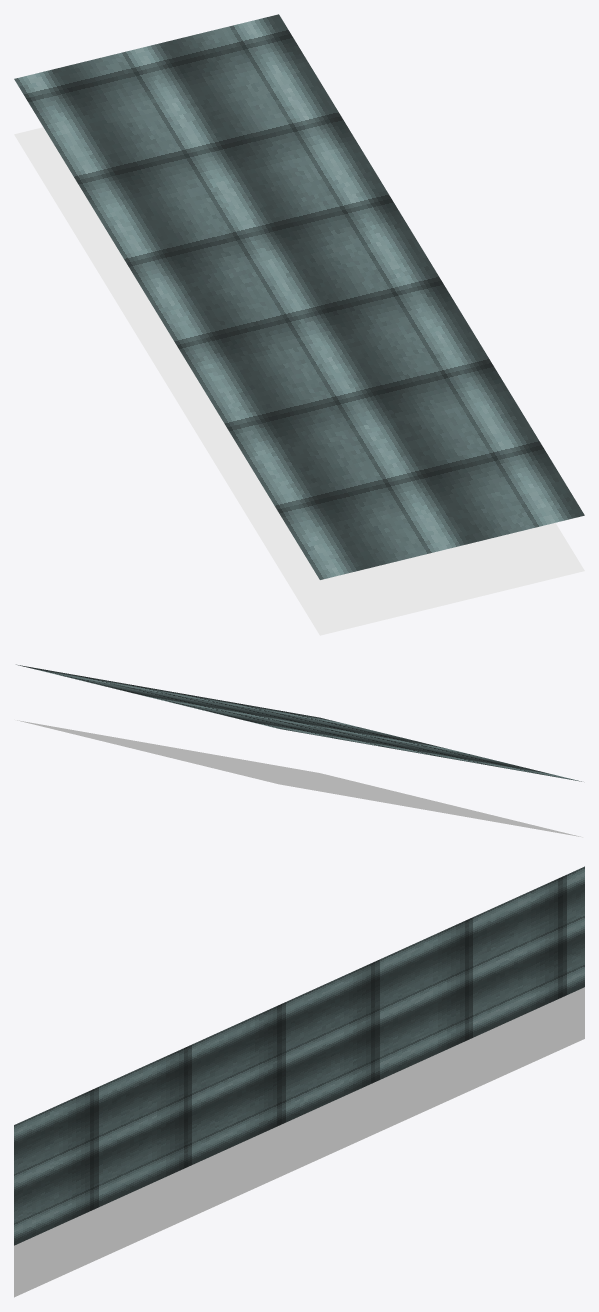
Rendered from roof_mid_1x2.glb.
3 views of the same model, one above another, from view 1: azimuth 30°, elevation 25°; view 2: azimuth 150°, elevation 25°; view 3: azimuth 270°, elevation 25° (orthographic). The views are drawn at different scales.
Visible parts, largest first — view 1: roof_mid_1x2; view 2: roof_mid_1x2; view 3: roof_mid_1x2.
Boxes of the visible parts, box(x1,y1,x2,y2) form: roof_mid_1x2: box(14, 14, 584, 635); roof_mid_1x2: box(16, 664, 582, 837); roof_mid_1x2: box(14, 866, 584, 1297).
Size of the model in its own units: 1 by 1.2 by 2.
2 materials, 1 textured.
